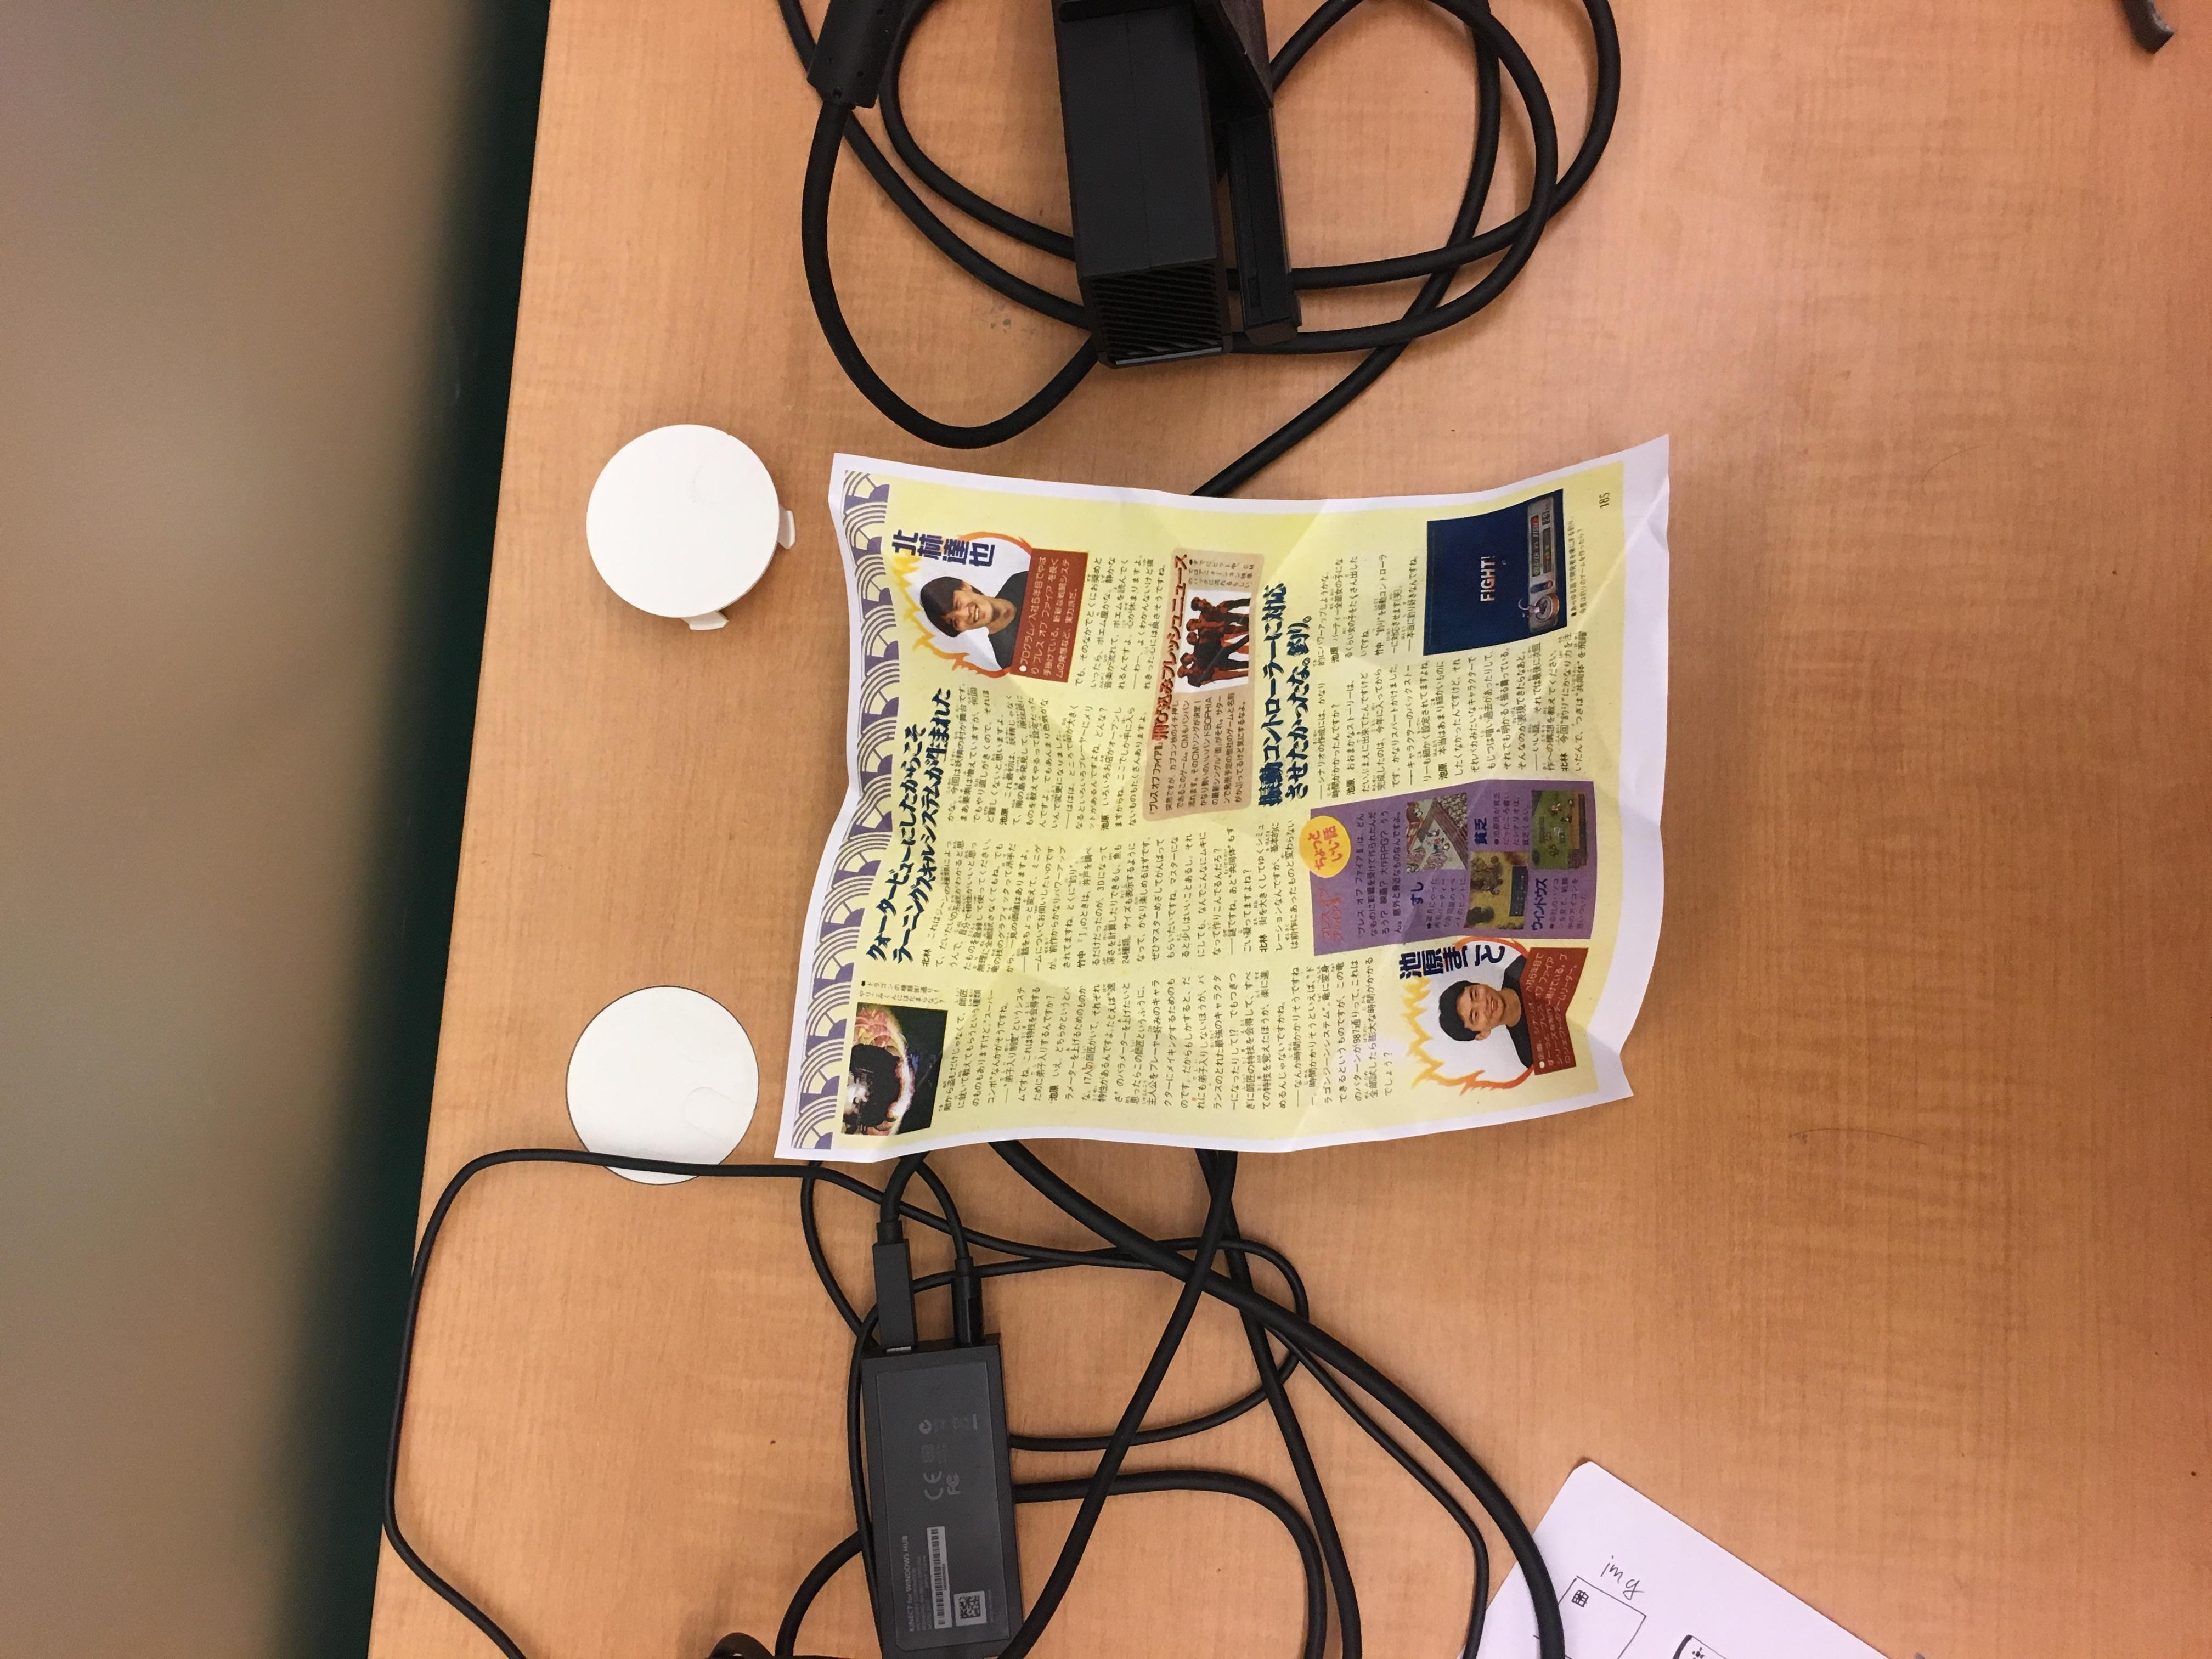paper: (542, 521, 1782, 1493)
